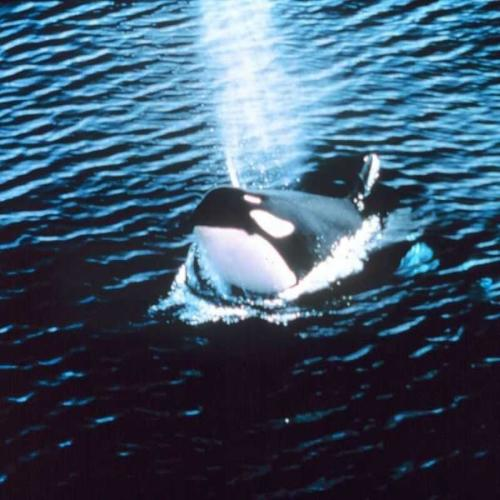killer_whale-endangered: (192, 136, 398, 311)
